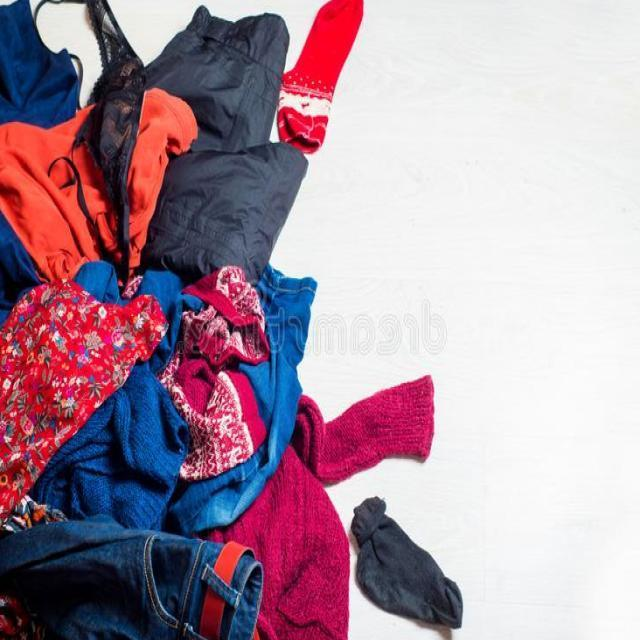clothes: (0, 26, 315, 640)
